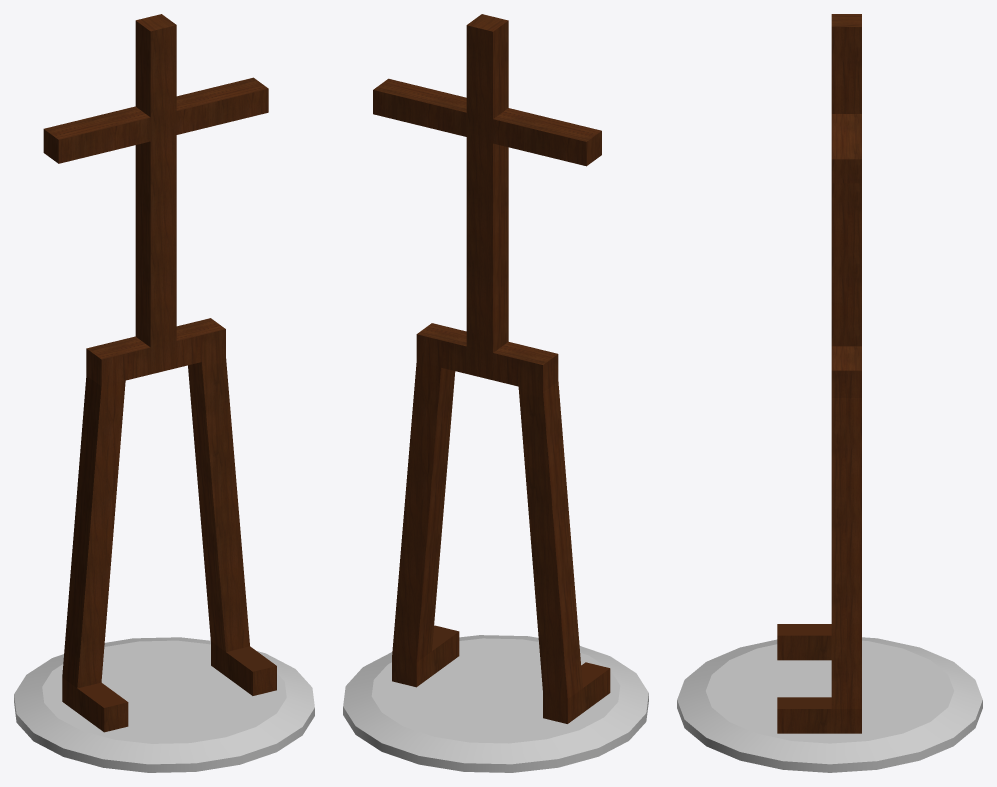
The model's file is Armour_Stand.fbx.
3 renders of one model, left to right at view 1: azimuth 30°, elevation 25°; view 2: azimuth 150°, elevation 25°; view 3: azimuth 270°, elevation 25°, orthographic.
Parts seen in each view (by area): view 1: pCube2, pCylinder1; view 2: pCube2, pCylinder1; view 3: pCylinder1, pCube2.
Boxes of the visible parts, x1,y1,x2,y2 form: pCube2: (43, 14, 276, 732); pCylinder1: (14, 637, 314, 772); pCube2: (373, 14, 610, 723); pCylinder1: (343, 635, 648, 772); pCylinder1: (677, 637, 982, 772); pCube2: (777, 14, 861, 733).
Size of the model in its own units: 80 by 199 by 80.
